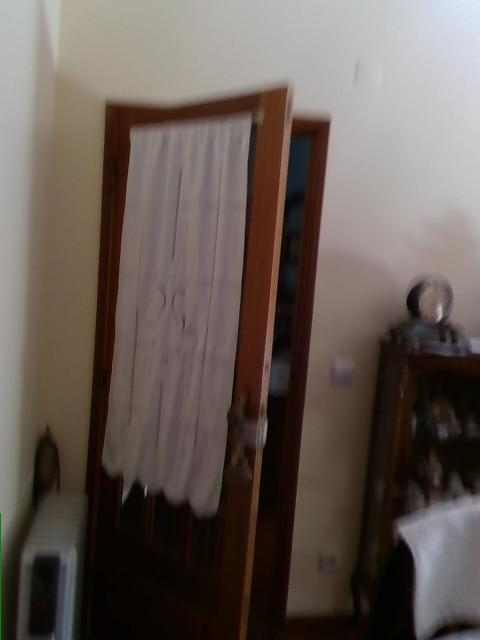semi_door: (71, 82, 330, 639)
